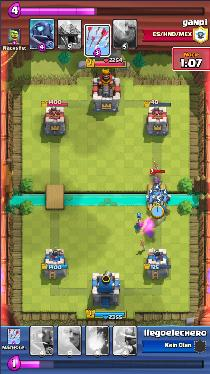ally_archer: (135, 221, 143, 232)
ally_knight: (149, 204, 168, 219)
ally_minion: (160, 194, 171, 203), (153, 189, 161, 198), (148, 194, 155, 203)
enemy_musketeer: (153, 174, 161, 189)
